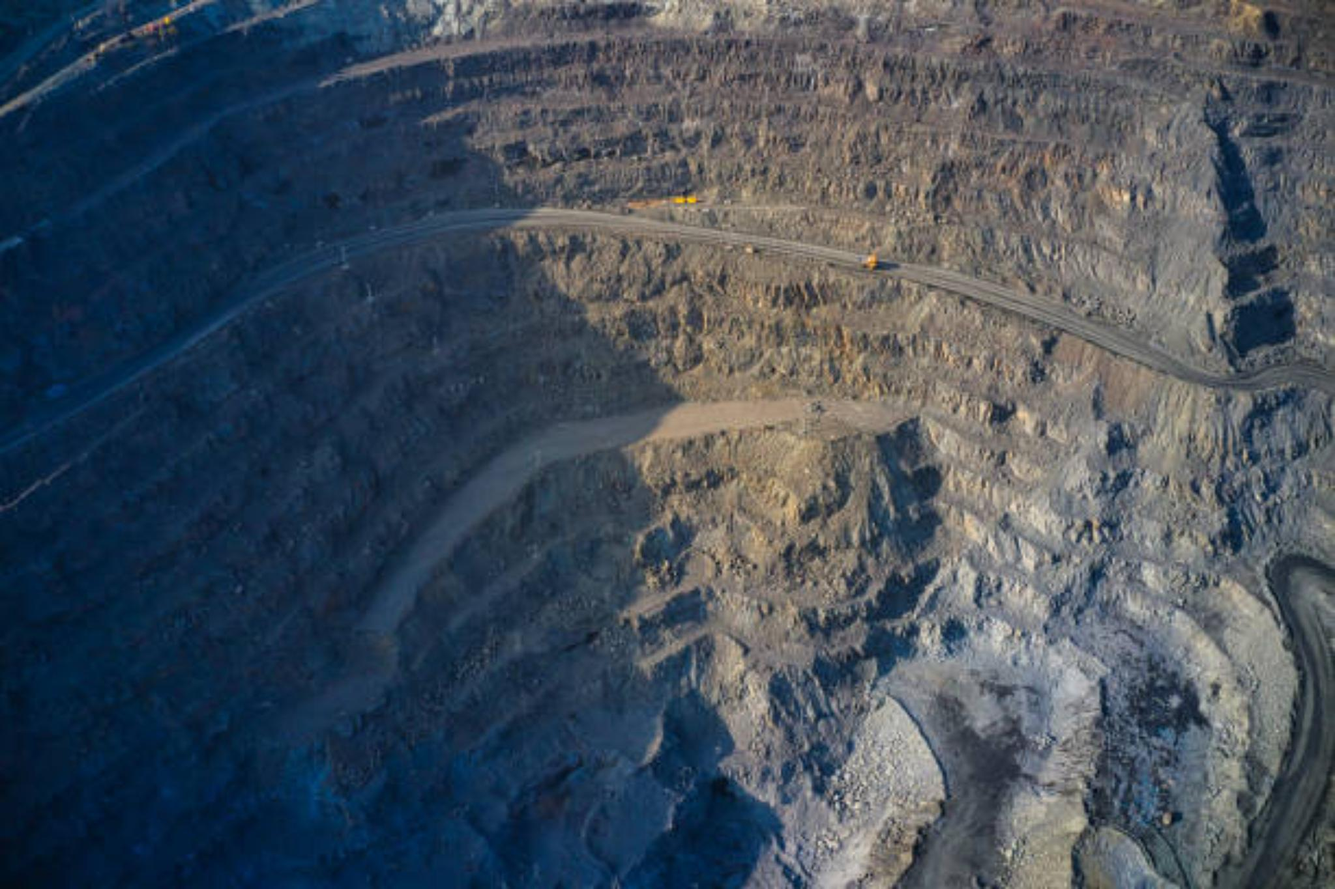benches: (0, 207, 866, 449), (301, 399, 907, 715), (877, 262, 1333, 390)
